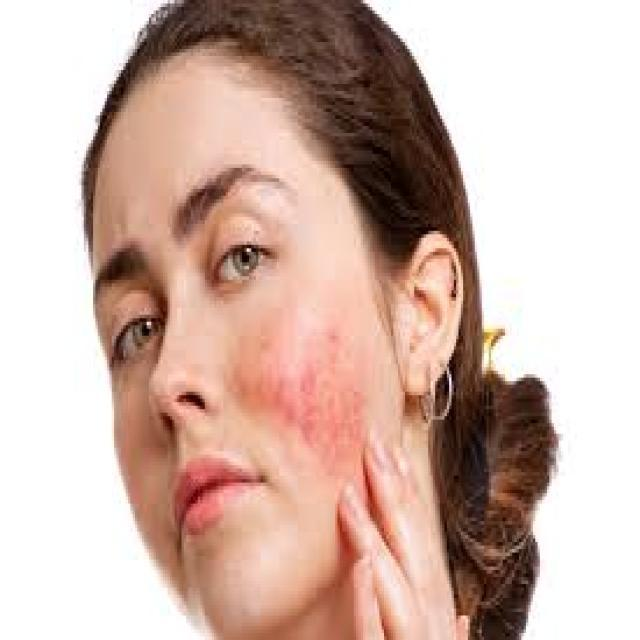Rosacea: (234, 320, 372, 470)
